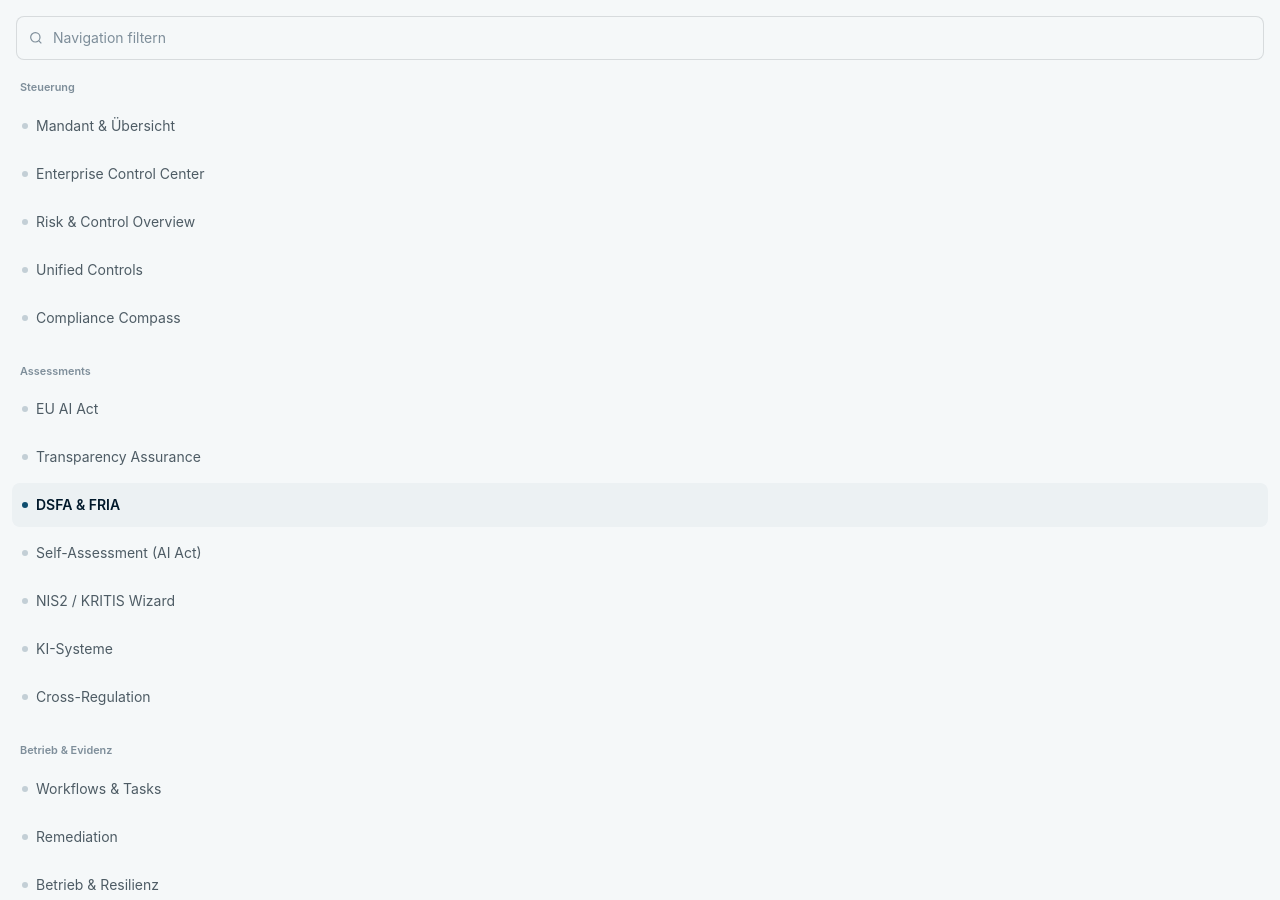
TenantNav › announces an empty navigation result
Type "nicht-vorhanden-123" into the search field named "Workspace-Navigation filtern" at {"x": 640, "y": 38}, box x1=16 y1=16 x2=1264 y2=60
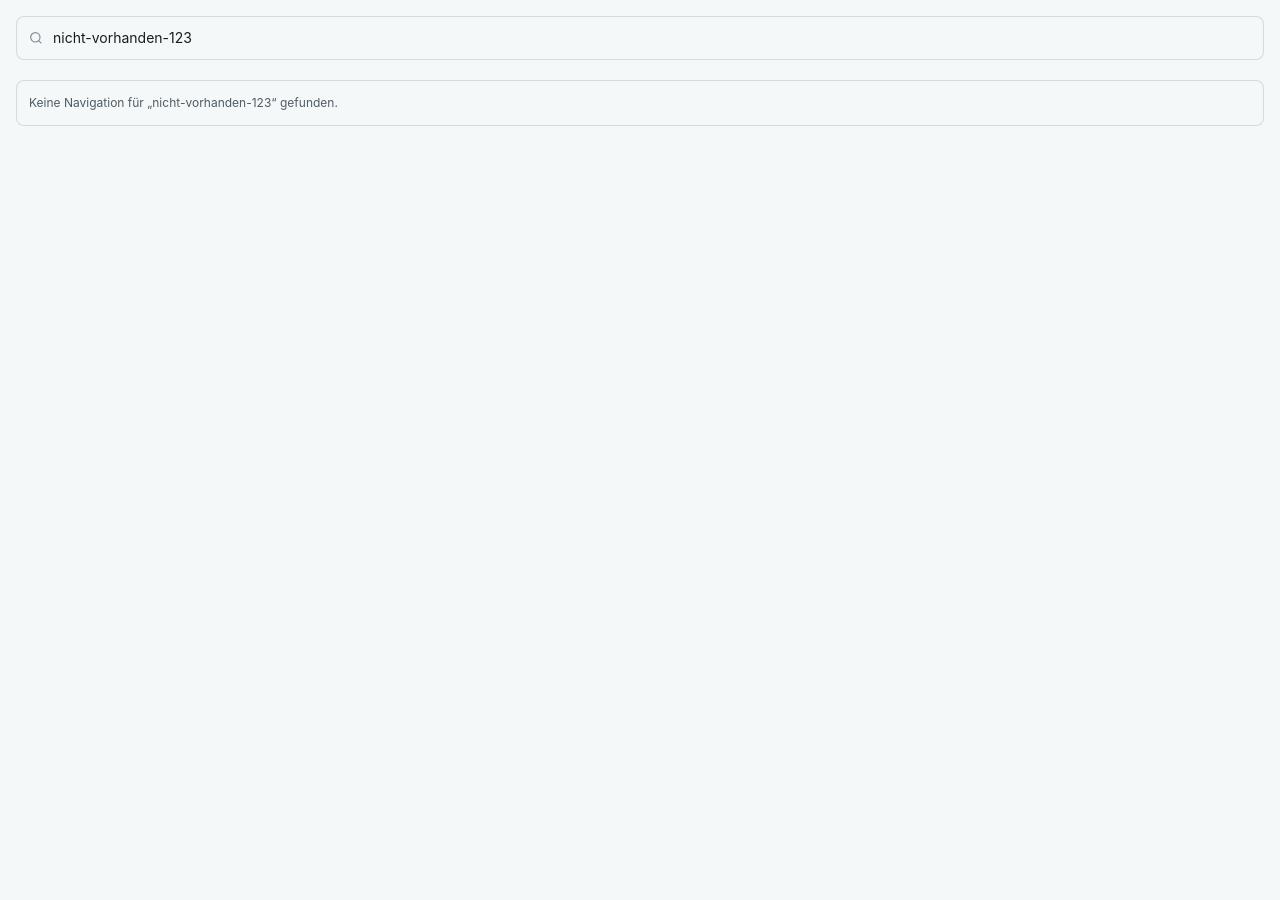
Expected: the message shows "Keine Navigation", x1=29 y1=95 x2=152 y2=110
